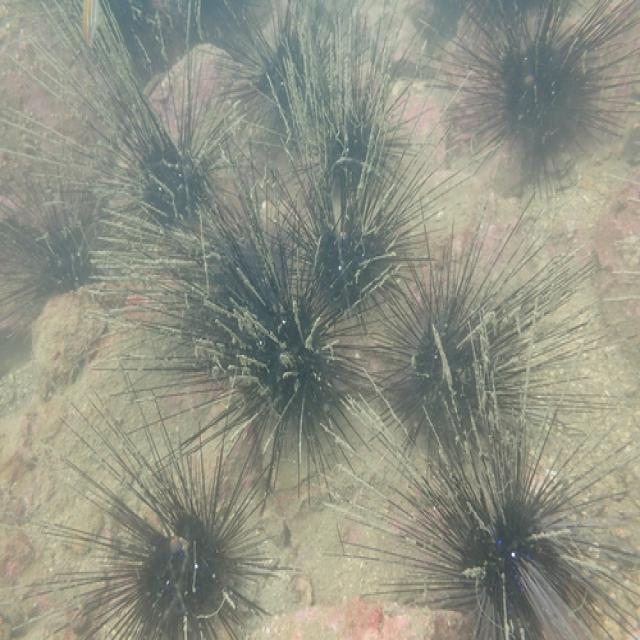Urchin: (329, 309, 640, 640), (124, 174, 397, 478), (29, 360, 294, 640), (343, 208, 599, 466), (23, 2, 236, 240), (414, 2, 640, 210), (215, 5, 416, 210), (255, 101, 434, 324), (1, 111, 114, 338)
